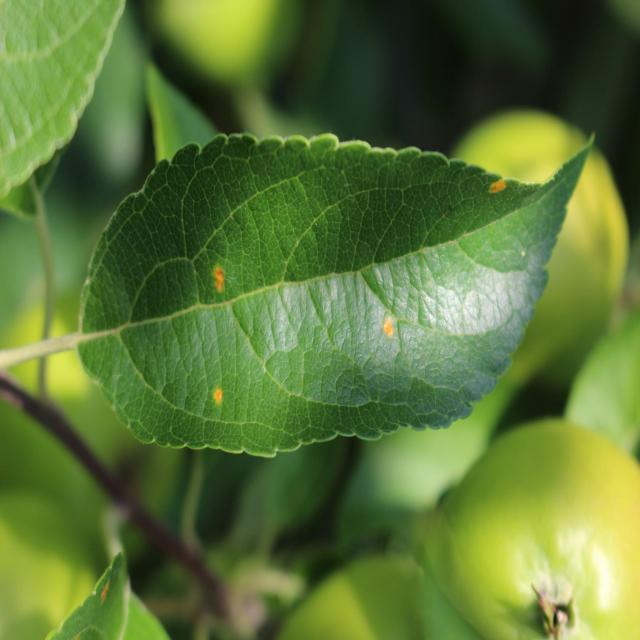Rust: (210, 263, 230, 299), (382, 313, 396, 349), (99, 576, 113, 612), (213, 383, 226, 413), (490, 175, 510, 194)
